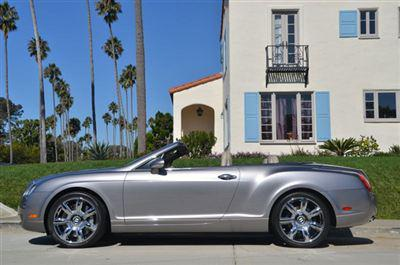Car: (18, 138, 383, 258)
